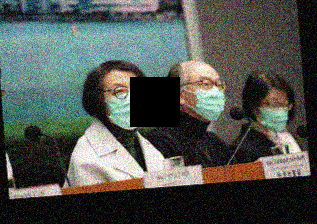with_mask: (102, 77, 149, 129), (183, 73, 227, 121), (254, 94, 293, 133)
